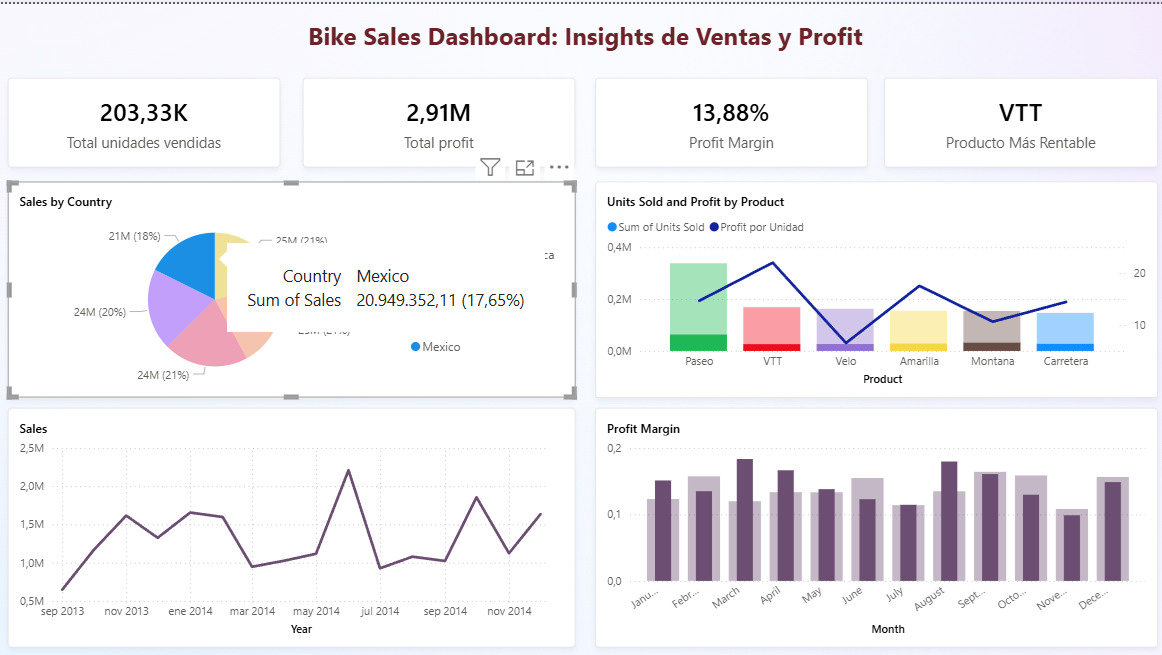

This screenshot's page, from the dashboard's own definition file:
{"tool":"powerbi","page":{"name":"Page 1","canvas":[1280,720],"ordinal":0},"visuals":[{"type":"card","fields":{"Values":["financials.Total unidades vendidas"]},"box":[9.6,81,299.1,98.8],"z":0},{"type":"card","fields":{"Values":["financials.Total profit"]},"box":[333.4,81,299.1,98.8],"z":1000},{"type":"card","fields":{"Values":["financials.Profit Margin"]},"box":[654.5,81,299.1,98.8],"z":2000},{"type":"card","fields":{"Values":["financials.Producto Más Rentable"]},"box":[971.5,81,300.5,98.8],"z":3000},{"type":"pieChart","title":"Sales by Country","fields":{"Category":["financials.Country"],"Y":["Sum(financials.Sales)"]},"box":[9.6,194.9,623,237.4],"z":4000},{"type":"lineChart","title":"Sales","fields":{"Y":["financials.Ventas diarias"],"Category":["financials.Date.Variation.Date Hierarchy.Year","financials.Date.Variation.Date Hierarchy.Quarter","financials.Date.Variation.Date Hierarchy.Month"]},"box":[9.6,443.2,623,263.5],"z":5000},{"type":"lineClusteredColumnComboChart","title":"Units Sold and Profit by Product","fields":{"Category":["financials.Product"],"Y":["Sum(financials.Units Sold)"],"Y2":["financials.Profit por Unidad"]},"box":[654.5,194.9,617.5,237.4],"z":6000},{"type":"columnChart","title":"Profit Margin","fields":{"Category":["financials.Date.Variation.Date Hierarchy.Month"],"Y":["financials.Profit Margin"]},"box":[654.5,443.2,617.5,263.5],"z":7000},{"type":"textbox","box":[17.8,11,1251.5,46.7],"z":8000}]}

Visuals, with their boxes in screenshot pixels (x1, y1, x2, y2), scaled from the page's 1280x720 canvas onto the 1162x655 screenshot:
card - financials.Total unidades vendidas: bbox=[9, 74, 280, 164]
card - financials.Total profit: bbox=[303, 74, 574, 164]
card - financials.Profit Margin: bbox=[594, 74, 866, 164]
card - financials.Producto Más Rentable: bbox=[882, 74, 1155, 164]
"Sales by Country" pieChart: bbox=[9, 177, 574, 393]
"Sales" lineChart: bbox=[9, 403, 574, 643]
"Units Sold and Profit by Product" lineClusteredColumnComboChart: bbox=[594, 177, 1155, 393]
"Profit Margin" columnChart: bbox=[594, 403, 1155, 643]
textbox: bbox=[16, 10, 1152, 52]
